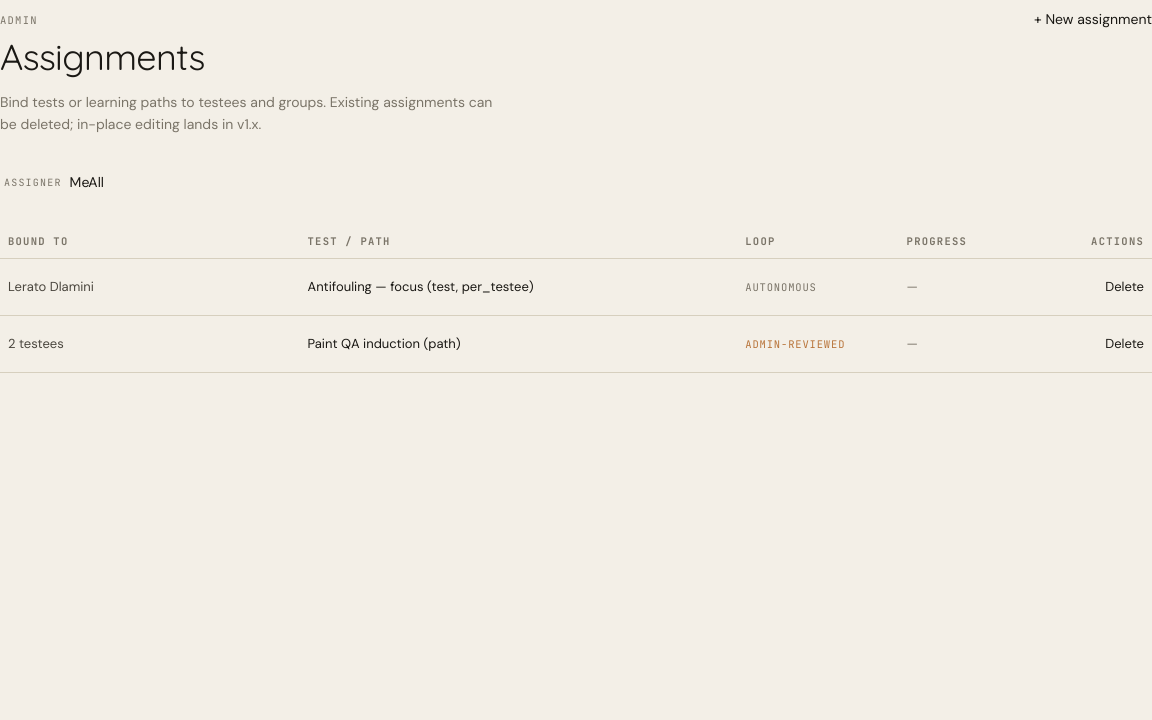
it: assignments list — create flow (drift Findings #6 + #9) › zod blocks empty target
Click the button with test id "assignments-add-button" at (1093, 20), box [1034,0,1151,40]
(page scrolled)
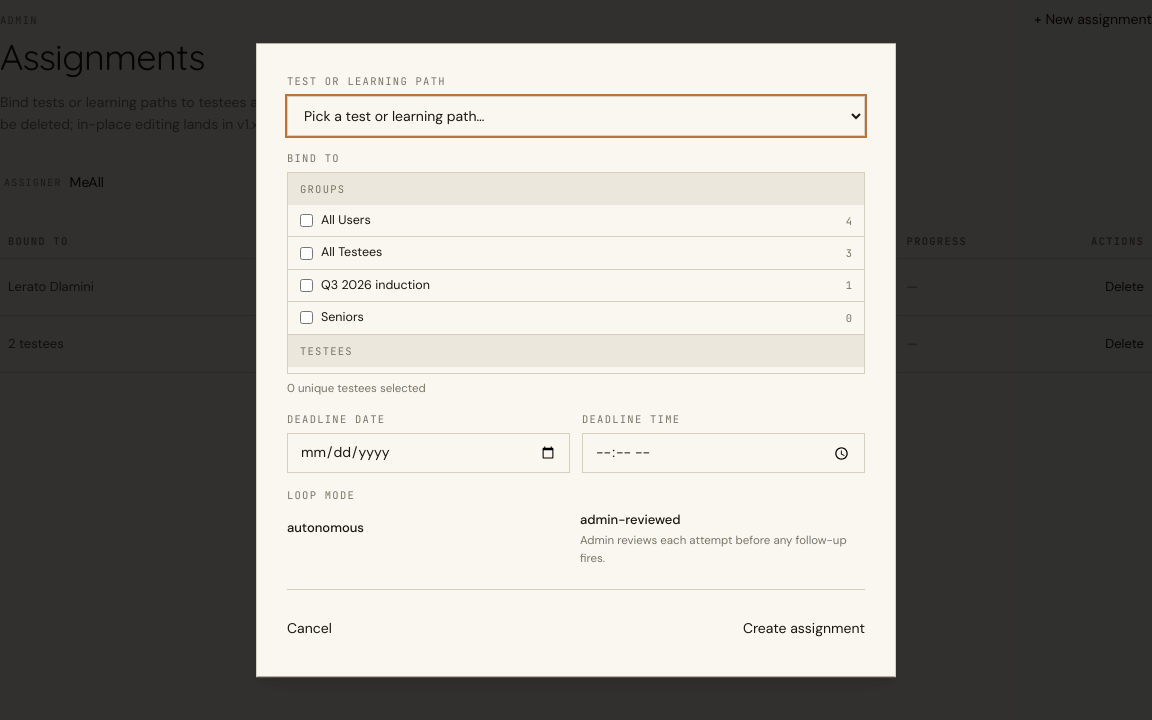
Click the button with test id "assignment-submit" at (804, 628), box [743,608,865,648]
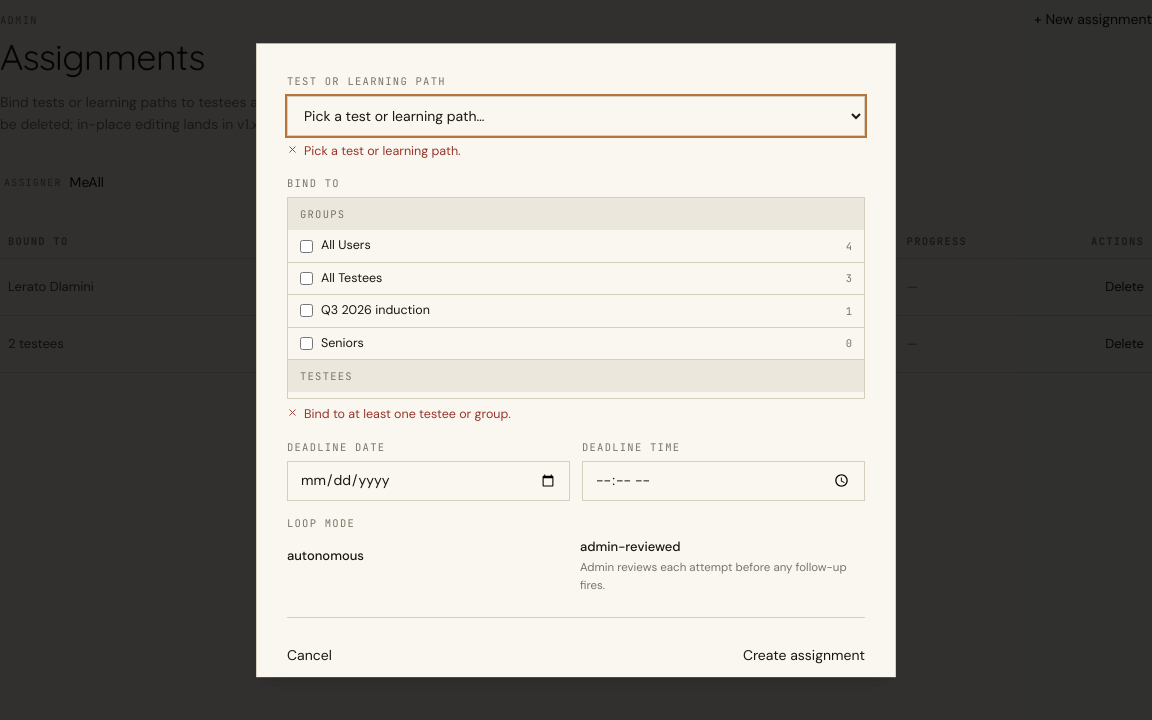
expect the text "Pick a test or learning path." is shown: met, box [304,142,460,161]
